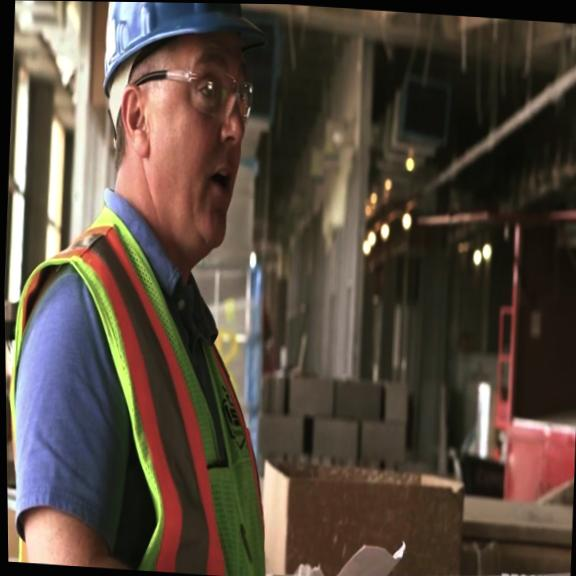safety_vest: (3, 201, 286, 576)
